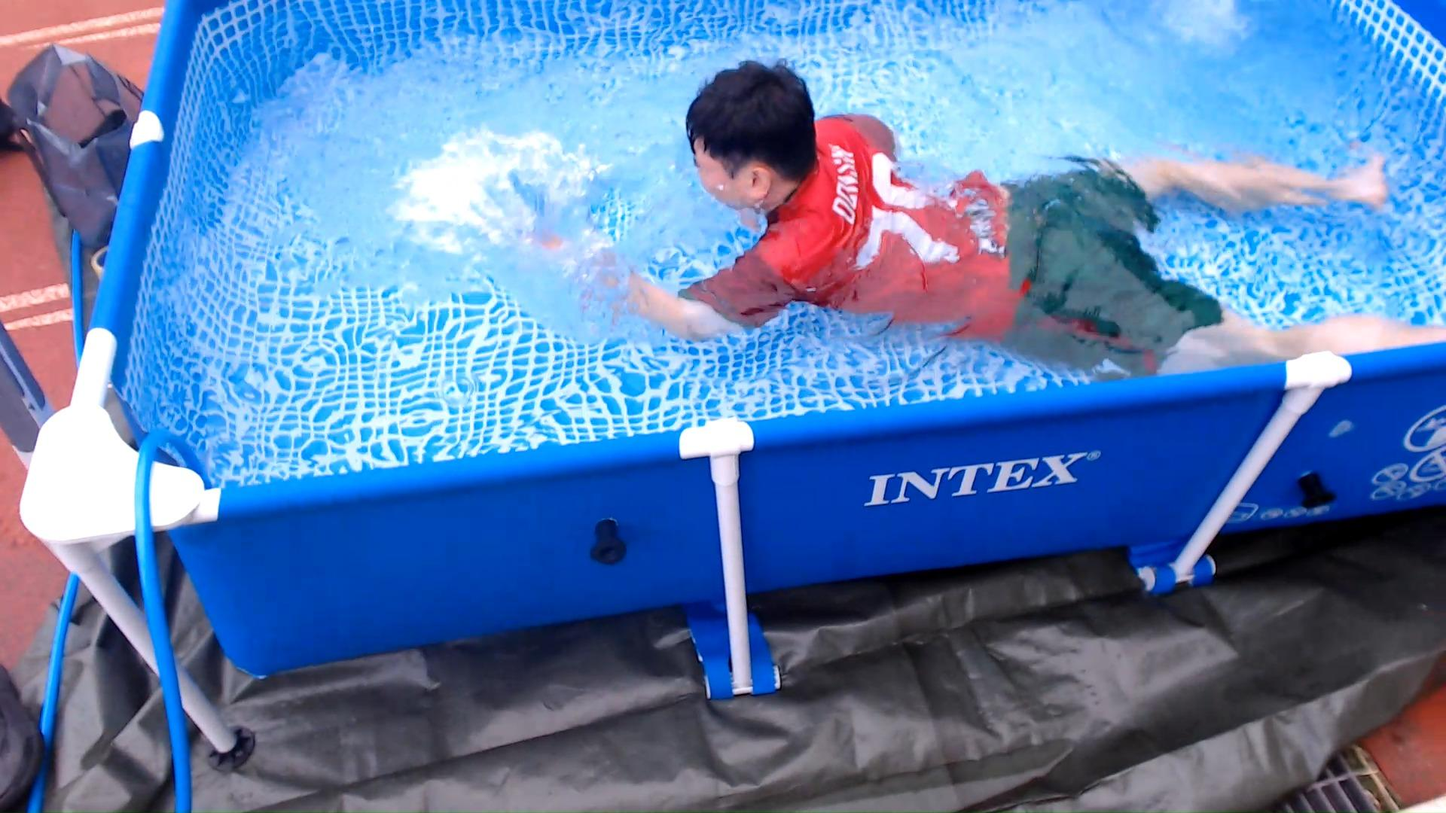Drowning: (461, 64, 1425, 389)
